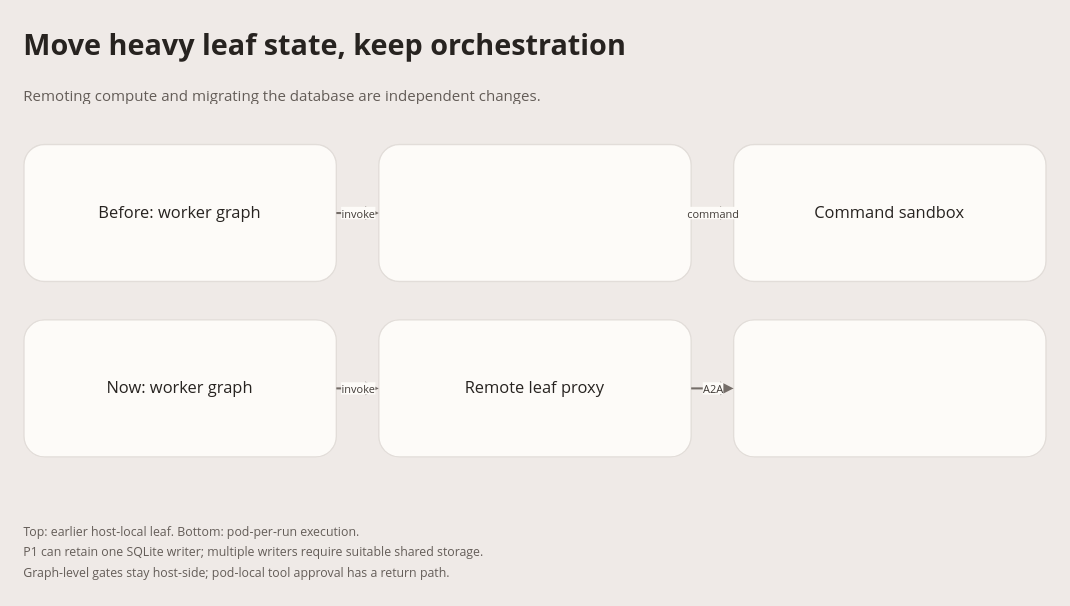
The diagram is 1070 pixels wide and 606 high, and some of its shapes have lost their labels. Each missing label, with the box of its shape:
Before: live SDK: (377, 143, 691, 282)
Per-run AgentHost: (732, 319, 1046, 457)
